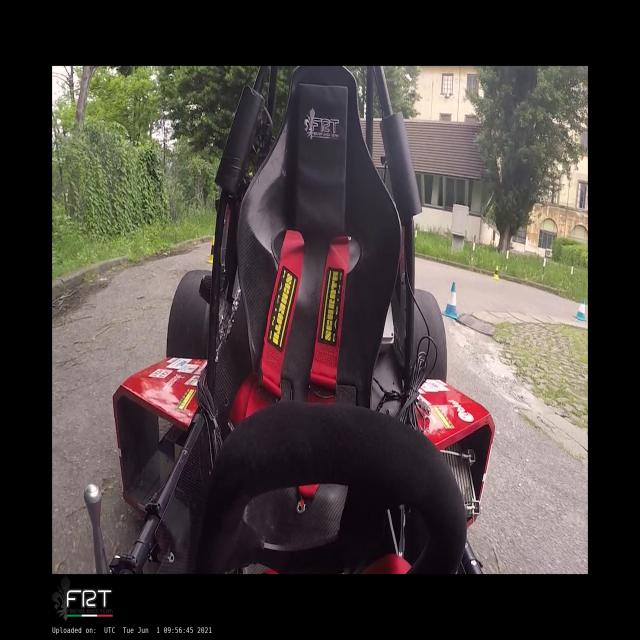blue_cone: (442, 281, 462, 320), (573, 300, 587, 322)
yellow_cone: (206, 237, 215, 264), (493, 265, 499, 280)
